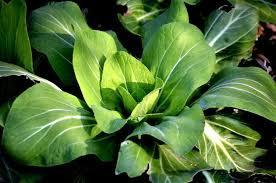Healthy-Pechay: (0, 12, 272, 181)
